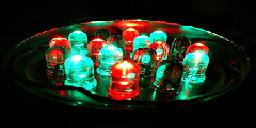LED: (110, 60, 144, 99), (63, 54, 95, 88), (181, 50, 210, 84), (68, 30, 87, 52), (99, 46, 122, 59)
